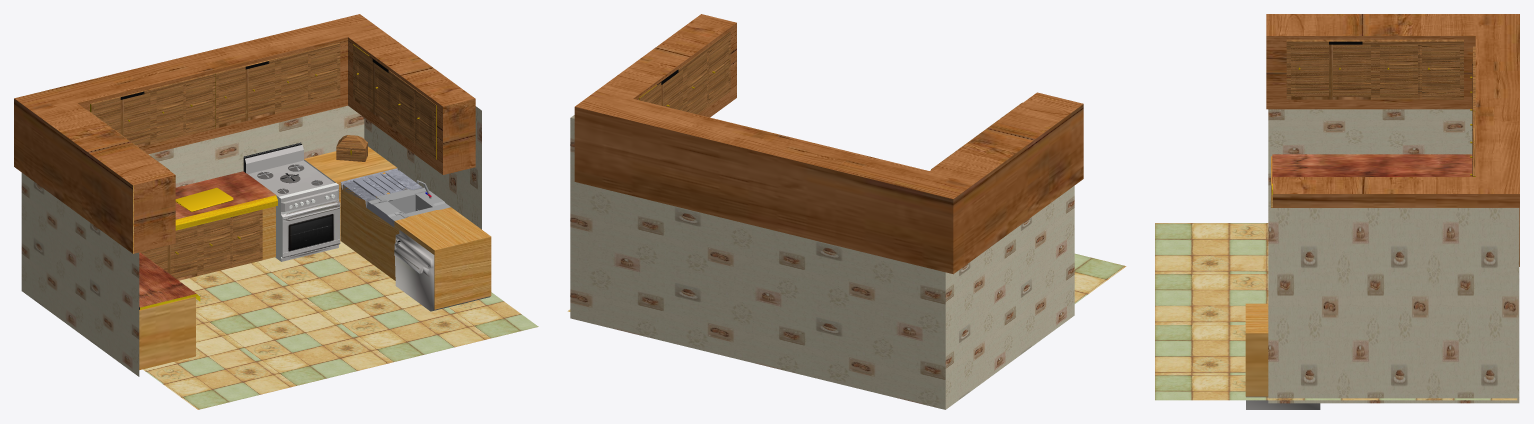
Rendered from kitchen.glb.
3 renders of one model, left to right at view 1: azimuth 30°, elevation 25°; view 2: azimuth 150°, elevation 25°; view 3: azimuth 270°, elevation 25°, orthographic. The views are drawn at different scales.
Parts seen in each view (by area): view 1: Cube.010, Plane, Plane.001, Cube, Cube.001, Cube.012, Cube.011, Cube.008, Cube.013, Cube.005, Cube.002, Cube.006 (+2 smaller); view 2: Plane.001, Cube.010, Cube.013, Plane; view 3: Plane.001, Cube.010, Plane, Cube.014, Cube.006, Cube, Cube.002.
Boxes of the visible parts, x1=… form: Cube.010: x1=14, y1=14, x2=475, y2=253; Plane: x1=143, y1=241, x2=538, y2=409; Plane.001: x1=21, y1=105, x2=481, y2=376; Cube: x1=139, y1=146, x2=491, y2=369; Cube.001: x1=243, y1=142, x2=340, y2=261; Cube.012: x1=215, y1=43, x2=340, y2=128; Cube.011: x1=90, y1=73, x2=215, y2=146; Cube.008: x1=140, y1=209, x2=262, y2=280; Cube.013: x1=353, y1=44, x2=436, y2=159; Cube.005: x1=175, y1=171, x2=277, y2=230; Cube.002: x1=394, y1=230, x2=490, y2=311; Cube.006: x1=139, y1=252, x2=200, y2=309; Plane.001: x1=570, y1=115, x2=1074, y2=409; Cube.010: x1=574, y1=14, x2=1083, y2=274; Cube.013: x1=639, y1=31, x2=730, y2=114; Plane: x1=567, y1=253, x2=1126, y2=311; Plane.001: x1=1268, y1=109, x2=1519, y2=403; Cube.010: x1=1266, y1=14, x2=1519, y2=266; Plane: x1=1155, y1=223, x2=1517, y2=400; Cube.014: x1=1286, y1=39, x2=1463, y2=99; Cube.006: x1=1272, y1=154, x2=1472, y2=194; Cube: x1=1245, y1=156, x2=1272, y2=396; Cube.002: x1=1246, y1=396, x2=1320, y2=409.
Size of the model in its own units: 12.48 by 6.79 by 10.45.
9 materials, 8 textured.
